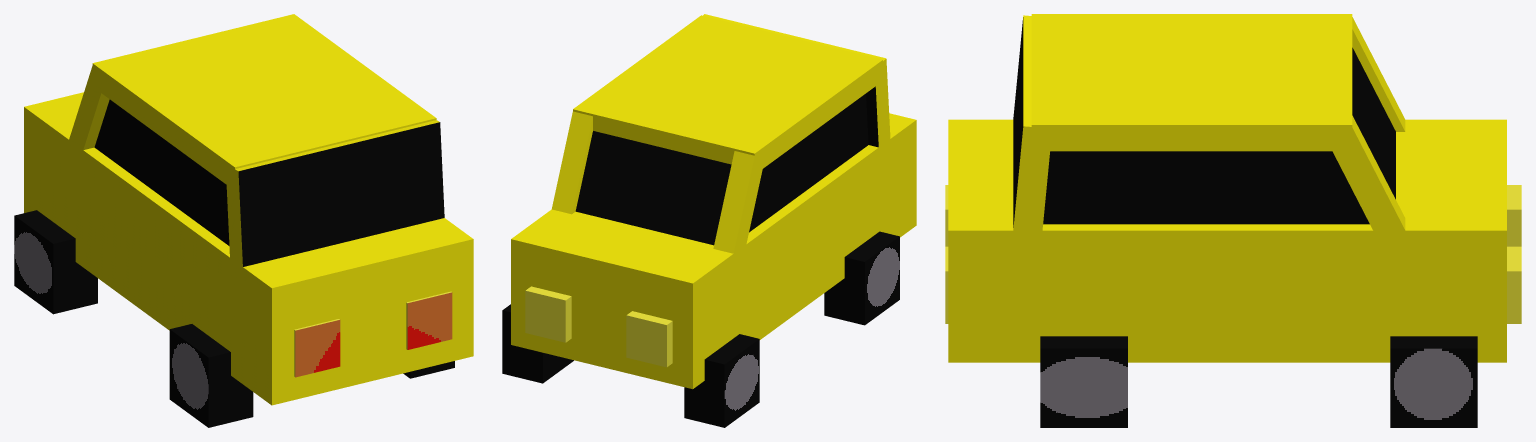
File: carrovermelho.fbx
3 renders of one model, left to right at view 1: azimuth 30°, elevation 25°; view 2: azimuth 150°, elevation 25°; view 3: azimuth 270°, elevation 25°, orthographic. The views are drawn at different scales.
Parts seen in each view (by area): view 1: cube_1, cube_9_1, cube_10_1, cube_11_1, cube_2_1, cube_1_2, cube_6_3, cube_5_3, cube_8_1, cube_13_1; view 2: cube_1, cube_9_1, cube_15_1, cube_11_1, cube_1_2, cube_2_1, cube_8_1, cube_7_1, cube_5_1, cube_6_1, cube_10_1, cube_4_1; view 3: cube_1, cube_9_1, cube_12_1, cube_3_1, cube_4_1, cube_14_1, cube_10_1, cube_7_1, cube_15_1, cube_8_1, cube_6_1, cube_5_1.
Boxes of the visible parts, box(x1,y1,x2,y2) form: cube_1: box(24, 92, 473, 405); cube_9_1: box(92, 14, 436, 189); cube_10_1: box(225, 120, 444, 291); cube_11_1: box(100, 99, 228, 242); cube_2_1: box(169, 324, 253, 427); cube_1_2: box(14, 210, 97, 314); cube_6_3: box(406, 291, 452, 349); cube_5_3: box(294, 319, 340, 377); cube_8_1: box(65, 65, 109, 168); cube_13_1: box(94, 131, 229, 245); cube_1: box(511, 113, 916, 389); cube_9_1: box(573, 15, 882, 168); cube_15_1: box(575, 131, 731, 245); cube_11_1: box(749, 93, 868, 232); cube_1_2: box(684, 334, 759, 427); cube_2_1: box(824, 231, 899, 325); cube_8_1: box(713, 151, 765, 269); cube_7_1: box(552, 111, 592, 214); cube_5_1: box(626, 311, 672, 367); cube_6_1: box(525, 286, 571, 342); cube_10_1: box(703, 14, 891, 169); cube_4_1: box(502, 304, 573, 383); cube_1: box(948, 119, 1506, 362); cube_9_1: box(1031, 14, 1352, 151); cube_12_1: box(1043, 151, 1360, 224); cube_3_1: box(1040, 336, 1127, 427); cube_4_1: box(1390, 336, 1477, 427); cube_14_1: box(1069, 198, 1369, 224); cube_10_1: box(1010, 15, 1049, 259); cube_7_1: box(1326, 115, 1413, 257); cube_15_1: box(1352, 47, 1395, 199); cube_8_1: box(1352, 17, 1405, 131); cube_6_1: box(1507, 246, 1521, 323); cube_5_1: box(1507, 185, 1521, 246).
Size of the model in its own units: 2707 by 2707 by 4861.
6 materials, 6 textured.
